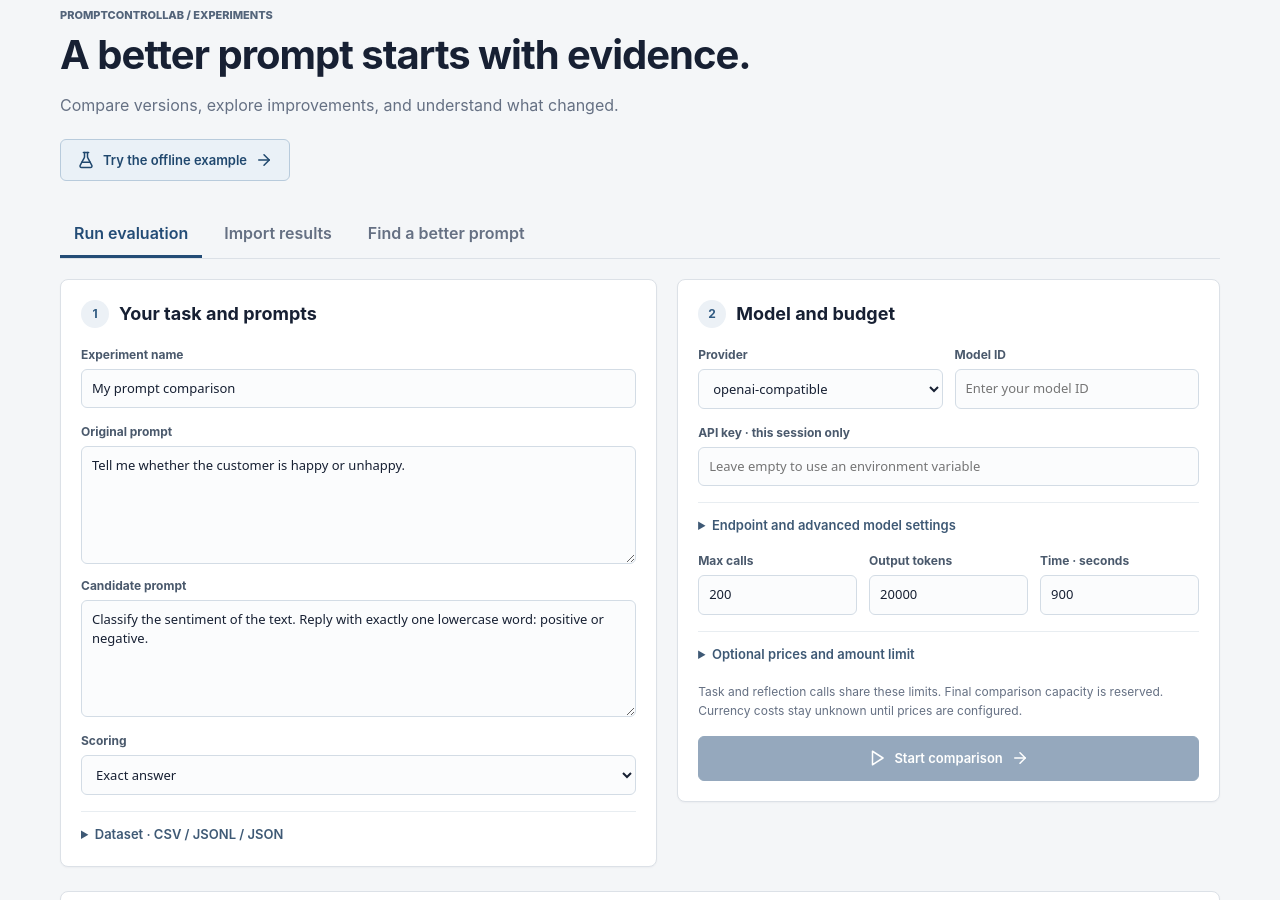
Scenario: experiment workspace › offers explicit external score preservation with metric identity
This screenshot has width=1280, height=900.
Click the button "Import results" at (278, 234), box [210,211,346,258]
(page scrolled)
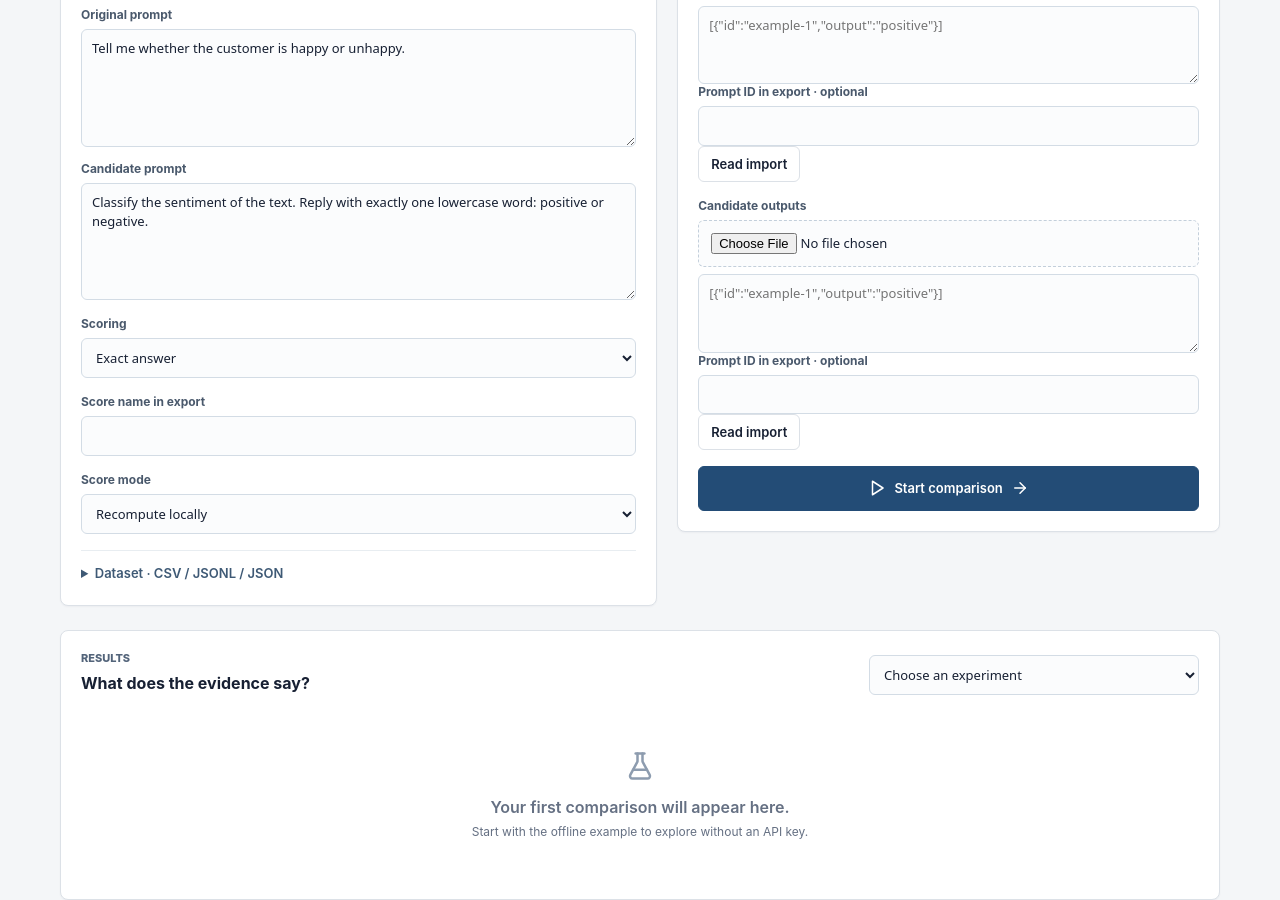
Check: the dropdown labelled "Score mode" shows "Recompute locally"
Select "Preserve external scores" in the dropdown labelled "Score mode" at (359, 514), box [81,494,636,534]
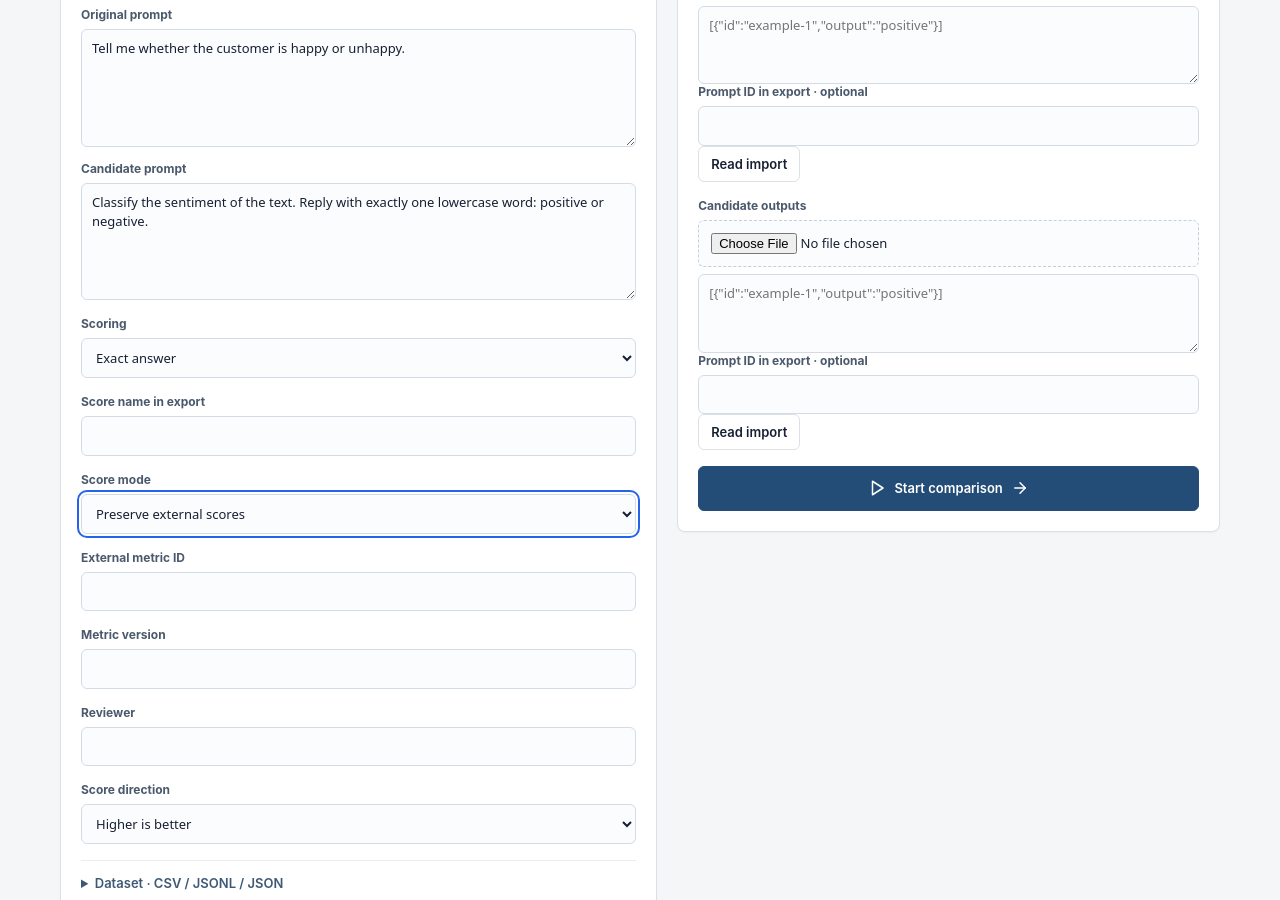
Check: the field labelled "External metric ID" is shown, box [81,572,636,612]
Check: the field labelled "Metric version" is shown, box [81,650,636,689]
Check: the field labelled "Reviewer" is shown, box [81,727,636,766]
